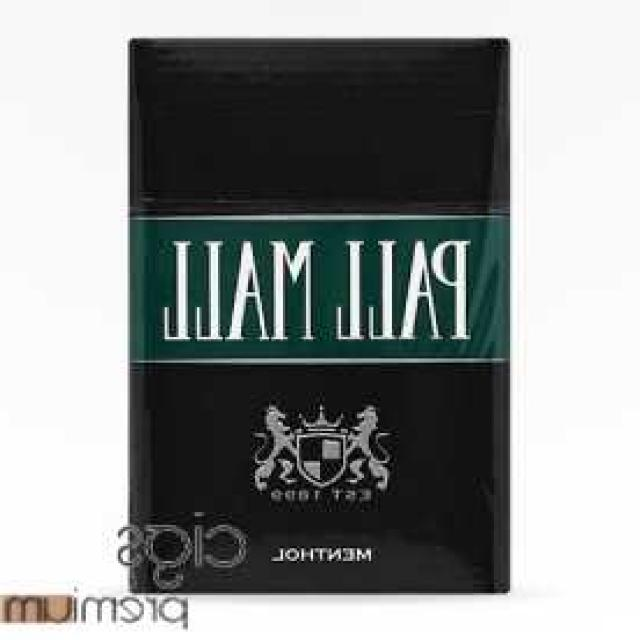pallmall: (124, 40, 516, 589)
